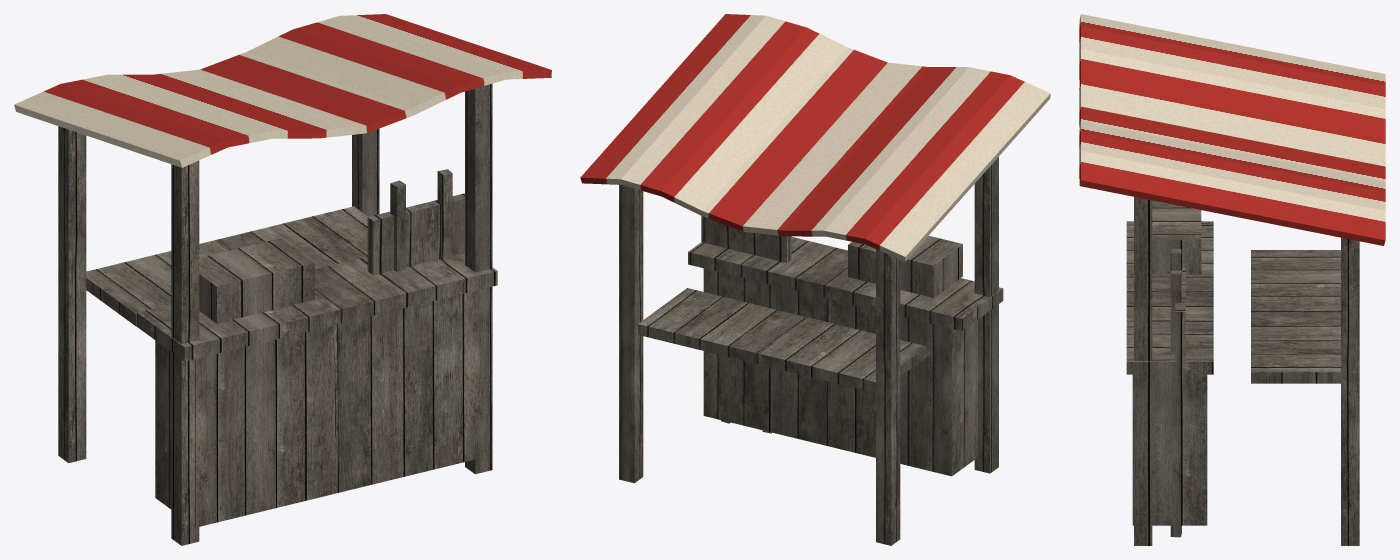
Rendered from Prop_MerchantStall.fbx.
3 views of the same model, side by side, from view 1: azimuth 30°, elevation 25°; view 2: azimuth 150°, elevation 25°; view 3: azimuth 270°, elevation 25° (orthographic). The views are drawn at different scales.
Visible parts, largest first — view 1: MerchantStall_Mesh; view 2: MerchantStall_Mesh; view 3: MerchantStall_Mesh.
Part boxes in pixels (x1,y1,x2,y2): MerchantStall_Mesh: (14, 14, 551, 545); MerchantStall_Mesh: (580, 14, 1050, 545); MerchantStall_Mesh: (1079, 14, 1385, 545).
Size of the model in its own units: 1.9 by 2.07 by 1.48.
Materials: 2 (2 with a texture image).
